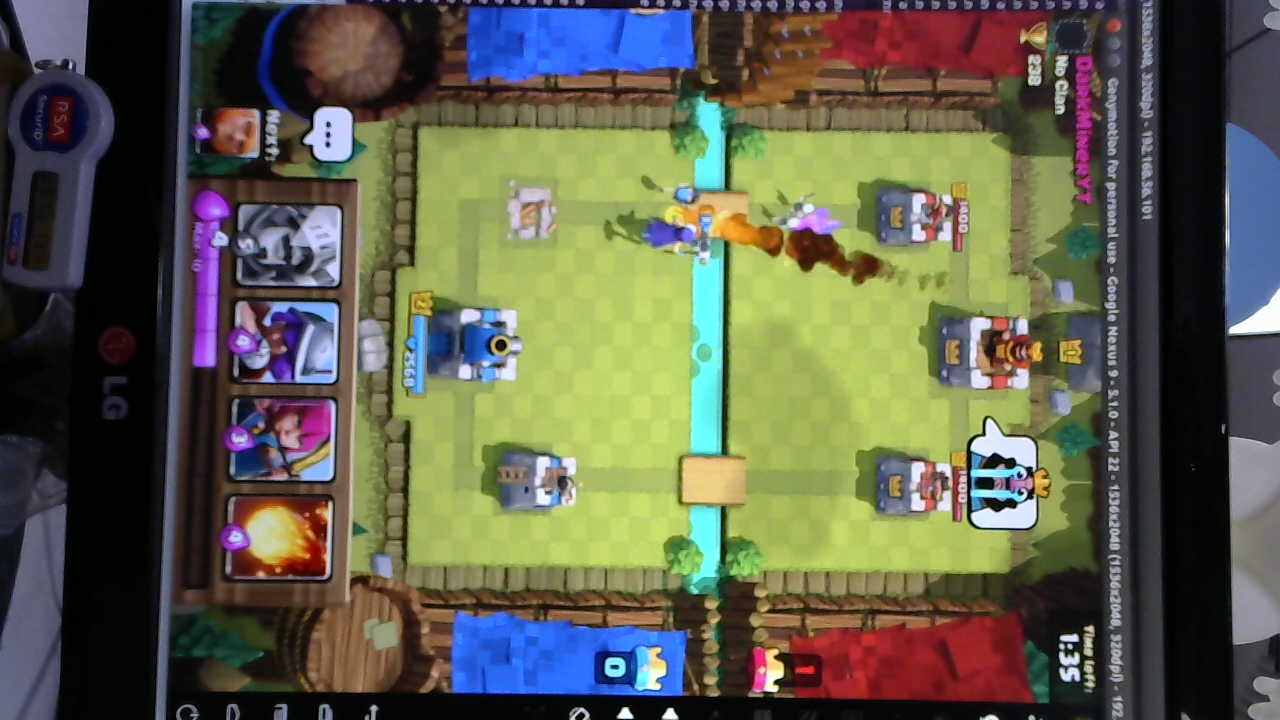arena: (503, 447, 584, 510)
bomb: (657, 182, 704, 205)
darena: (504, 181, 561, 244)
earena: (874, 452, 952, 514), (874, 192, 958, 247)
eking: (936, 312, 1041, 394)
king: (428, 308, 524, 384)
skeleton: (773, 192, 822, 229)
witch: (640, 218, 698, 252)
